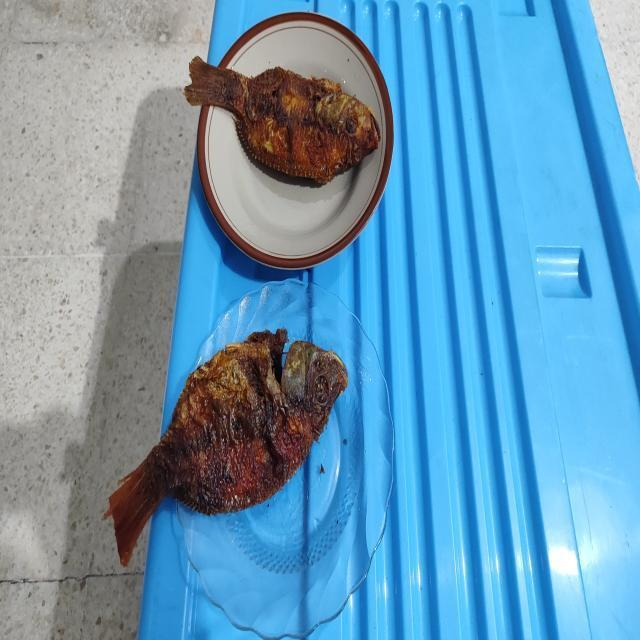ikan_mujair: (104, 327, 348, 565), (184, 56, 380, 185)
